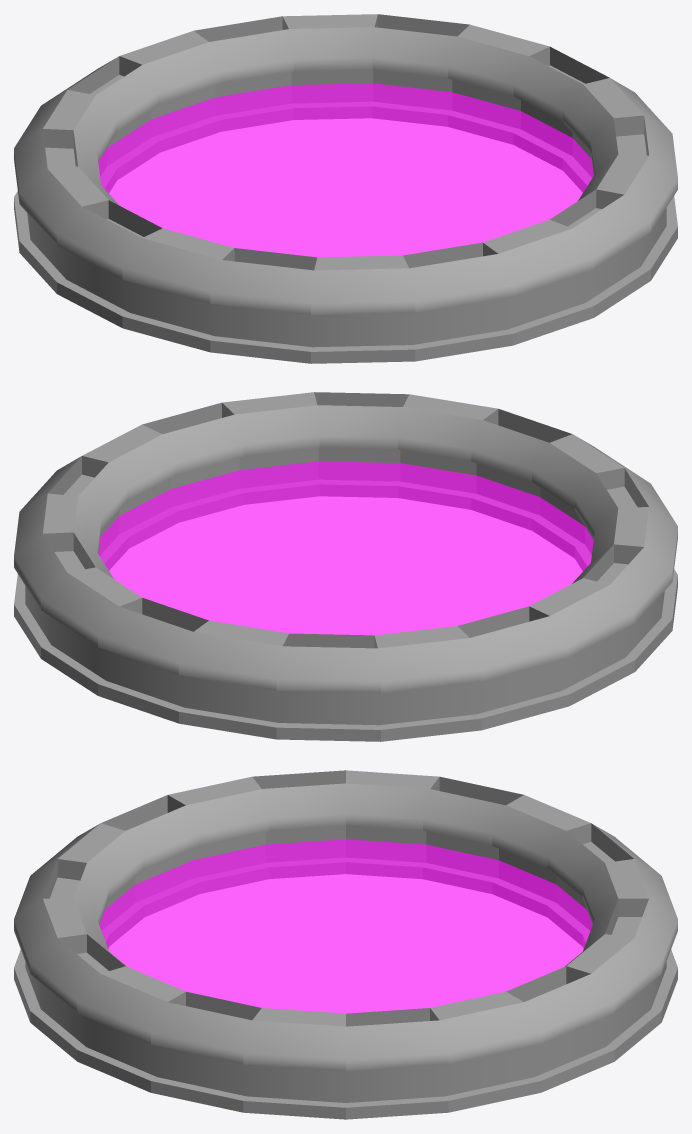
Rendered from Portal.fbx.
3 renders of one model, top to bottom at view 1: azimuth 30°, elevation 25°; view 2: azimuth 150°, elevation 25°; view 3: azimuth 270°, elevation 25°, orthographic.
Visible parts, largest first — view 1: pCylinder1, pPlane1; view 2: pCylinder1, pPlane1; view 3: pCylinder1, pPlane1.
Boxes of the visible parts, bbox=[...] form: pCylinder1: bbox=[14, 14, 677, 363]; pPlane1: bbox=[98, 83, 593, 257]; pCylinder1: bbox=[14, 392, 677, 741]; pPlane1: bbox=[98, 461, 593, 635]; pCylinder1: bbox=[14, 770, 677, 1119]; pPlane1: bbox=[99, 839, 592, 1013].
Size of the model in its own units: 100 by 13.43 by 100.
